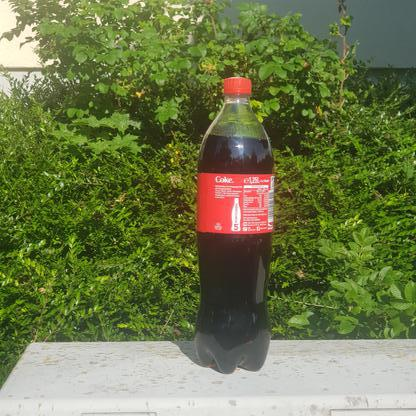coca-cola: (192, 75, 278, 373)
